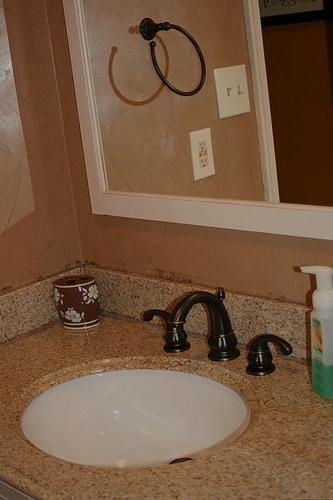Lavamanos: (11, 277, 299, 474)
